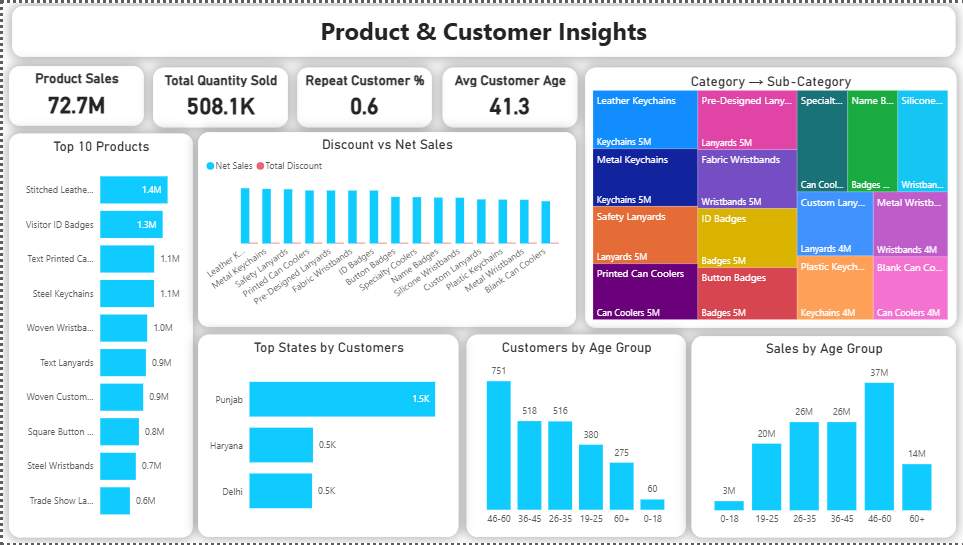

What the dashboard file says about the page in this screenshot:
{"tool":"powerbi","page":{"name":"Page 2","canvas":[1280,720],"ordinal":1},"visuals":[{"type":"textbox","box":[12,4,1258,68],"z":0},{"type":"card","title":"Product Sales","fields":{"Values":["wrist_band order_items_clean.Product Sales"]},"box":[7.8,84.4,180,80],"z":1000},{"type":"card","title":"Avg Customer Age","fields":{"Values":["wrist_band customers_clean.Average Customer Age"]},"box":[585,85,180,80],"z":2000},{"type":"card","title":"Repeat Customer %","fields":{"Values":["wrist_band orders_clean.Repeat Customer %"]},"box":[392.5,85,180,80],"z":3000},{"type":"card","title":"Total Quantity Sold","fields":{"Values":["wrist_band order_items_clean.Total Quantity Sold"]},"box":[200,85,180,80],"z":4000},{"type":"barChart","title":"Top 10 Products","fields":{"Category":["wrist_band products_clean.product_name"],"Y":["wrist_band order_items_clean.Product Sales"]},"box":[8.3,173.3,245,538.3],"z":5000},{"type":"treemap","title":"Category → Sub-Category","fields":{"Group":["wrist_band products_clean.category"],"Details":["wrist_band products_clean.sub_category"],"Values":["wrist_band order_items_clean.Product Sales"]},"box":[775,85,495,347.5],"z":6000},{"type":"clusteredColumnChart","title":"Discount vs Net Sales","fields":{"Category":["wrist_band products_clean.category"],"Y":["wrist_band order_items_clean.Net Sales","wrist_band order_items_clean.Total Discount"]},"box":[260,172.5,503.8,260],"z":7000},{"type":"columnChart","title":"Customers by Age Group","fields":{"Category":["wrist_band customers_clean.age_group"],"Y":["wrist_band customers_clean.Total Customers"]},"box":[617.5,442.5,292.5,270],"z":8000},{"type":"columnChart","title":"Sales by Age Group","fields":{"Y":["wrist_band orders_clean.Total Sales"],"Category":["wrist_band customers_clean.age_group"]},"box":[917.5,443.8,352.5,268.8],"z":9000},{"type":"barChart","title":"Top States by Customers","fields":{"Category":["wrist_band customers_clean.state"],"Y":["wrist_band customers_clean.Total Customers"]},"box":[260,442.5,347.5,270],"z":10000}]}

Visuals, with their boxes in screenshot pixels (x1, y1, x2, y2), scaled from the page's 1280x720 canvas onto the 963x545 screenshot:
textbox: BBox(9, 3, 955, 54)
"Product Sales" card: BBox(6, 64, 141, 124)
"Avg Customer Age" card: BBox(440, 64, 576, 125)
"Repeat Customer %" card: BBox(295, 64, 431, 125)
"Total Quantity Sold" card: BBox(150, 64, 286, 125)
"Top 10 Products" barChart: BBox(6, 131, 191, 539)
"Category → Sub-Category" treemap: BBox(583, 64, 955, 327)
"Discount vs Net Sales" clusteredColumnChart: BBox(196, 131, 575, 327)
"Customers by Age Group" columnChart: BBox(465, 335, 685, 539)
"Sales by Age Group" columnChart: BBox(690, 336, 955, 539)
"Top States by Customers" barChart: BBox(196, 335, 457, 539)
